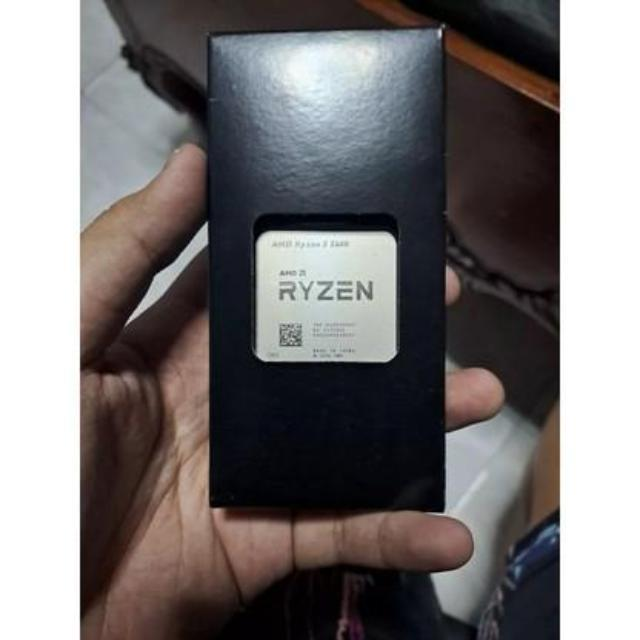CPU: (250, 223, 404, 368)
